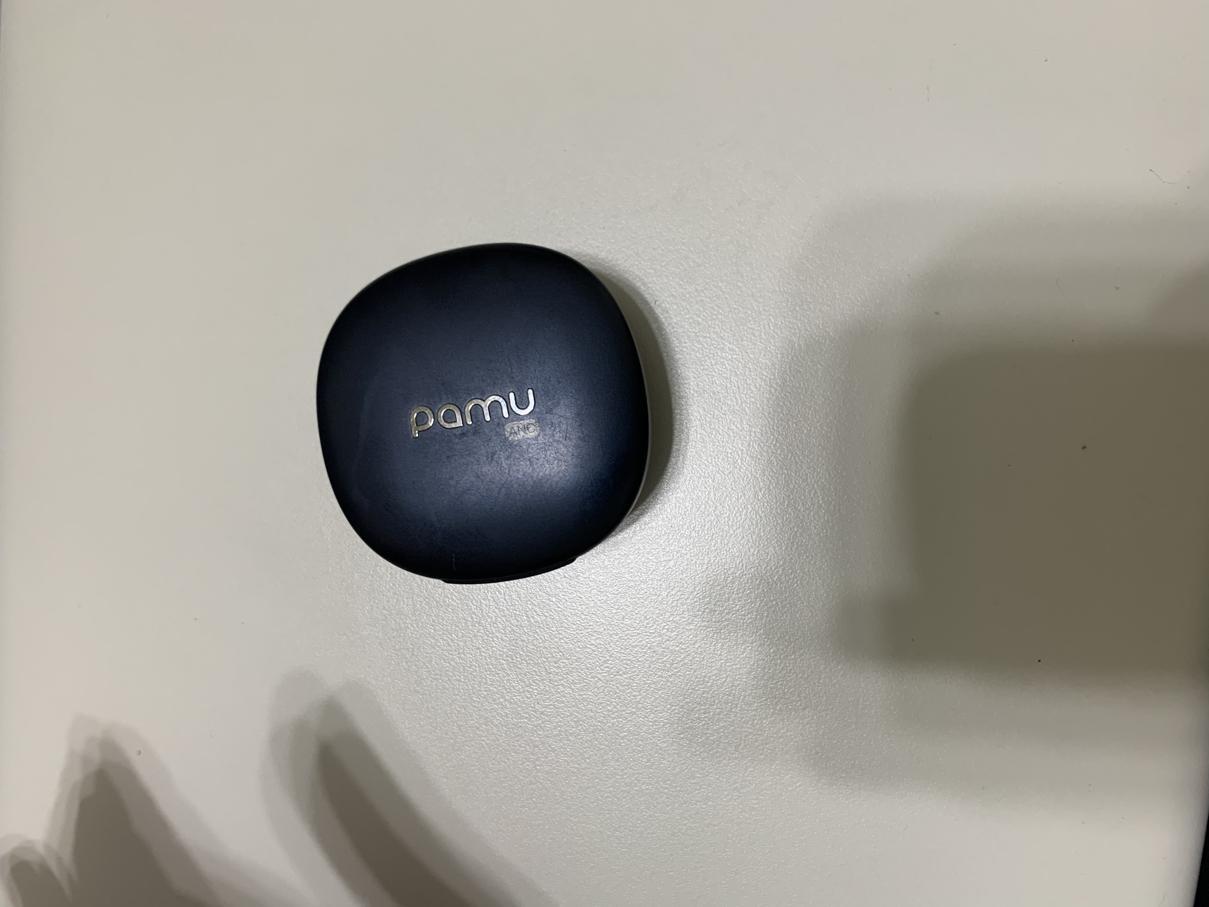pami: (305, 229, 661, 590)
